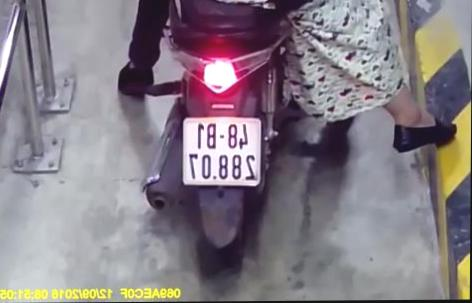License_Plate: (181, 115, 270, 188)
